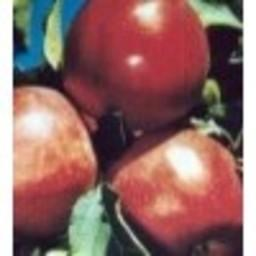apple: (62, 1, 213, 135), (103, 127, 242, 256), (13, 86, 97, 241)
